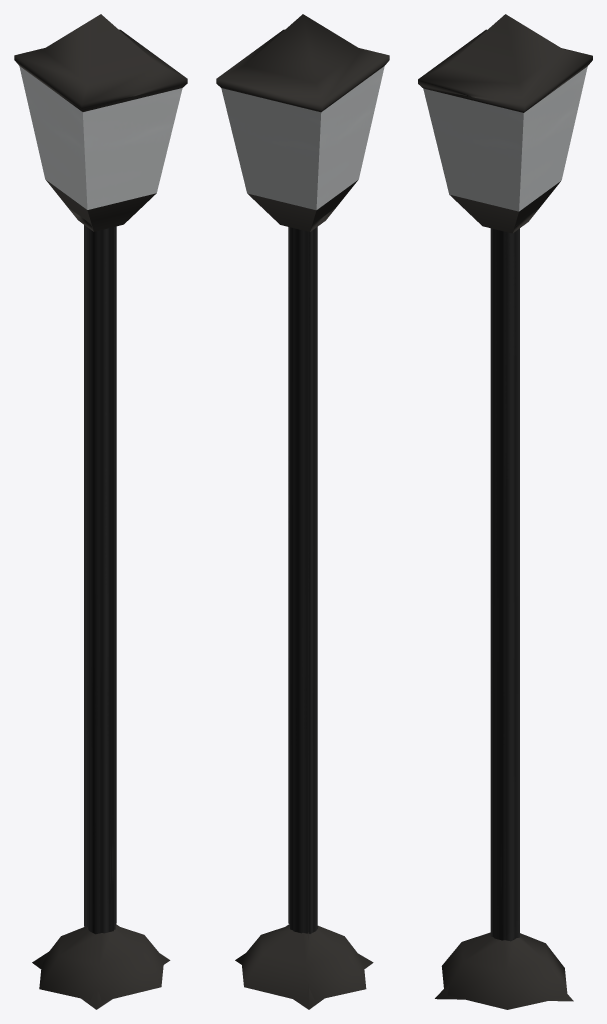
Rendered from LightPost_v1.fbx.
3 views of the same model, side by side, from view 1: azimuth 30°, elevation 25°; view 2: azimuth 150°, elevation 25°; view 3: azimuth 330°, elevation 25° (orthographic).
Visible parts, largest first — view 1: lightpost_v1_01, lightpost_v1_02; view 2: lightpost_v1_01, lightpost_v1_02; view 3: lightpost_v1_01, lightpost_v1_02.
Boxes of the visible parts, <box> form: lightpost_v1_01: <box>14,14,187,1001</box>; lightpost_v1_02: <box>19,66,182,1009</box>; lightpost_v1_01: <box>216,14,389,1001</box>; lightpost_v1_02: <box>221,66,384,1009</box>; lightpost_v1_01: <box>418,14,592,1009</box>; lightpost_v1_02: <box>423,66,587,1001</box>.
Bounding box in the file's own units: 0.0226 × 0.1583 × 0.0201.
